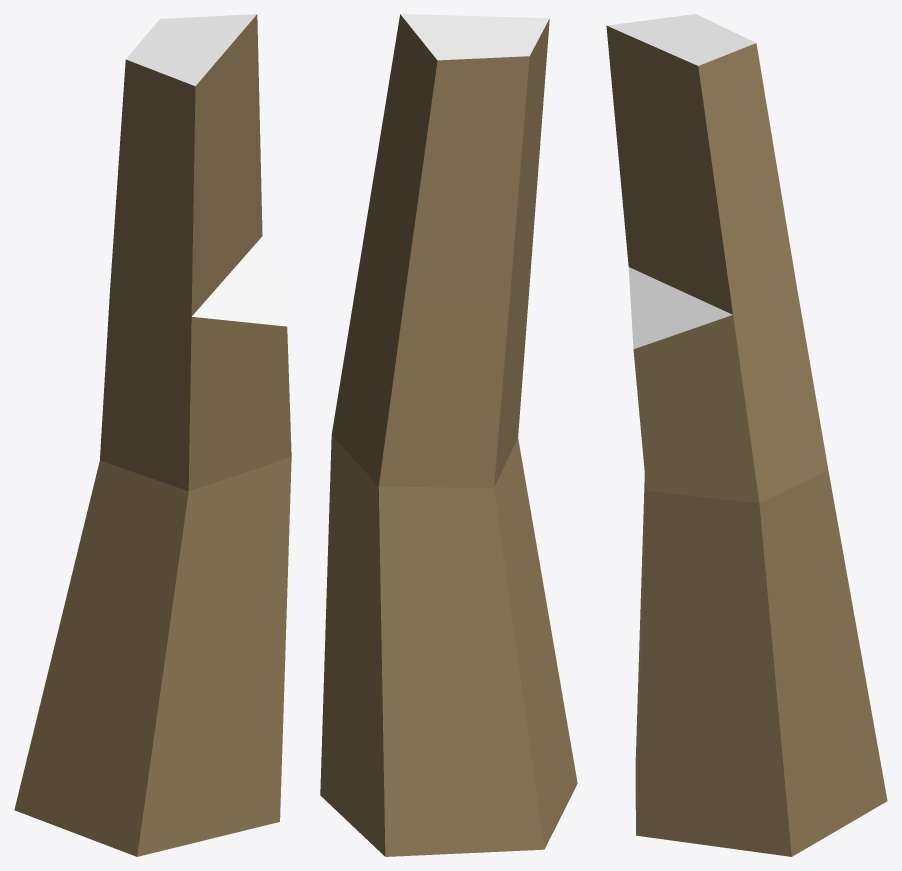
The model's file is Apple_Stump_Snow_01_LOD.fbx.
The picture shows the model from 3 angles, left to right: view 1: azimuth 30°, elevation 25°; view 2: azimuth 150°, elevation 25°; view 3: azimuth 270°, elevation 25°; orthographic projection. The views are drawn at different scales.
Parts seen in each view (by area): view 1: Apple_Stump_Snow_01_LOD0; view 2: Apple_Stump_Snow_01_LOD0; view 3: Apple_Stump_Snow_01_LOD0.
Part boxes in pixels (x1,y1,x2,y2): Apple_Stump_Snow_01_LOD0: (14,14,291,856); Apple_Stump_Snow_01_LOD0: (320,14,577,856); Apple_Stump_Snow_01_LOD0: (606,14,887,856).
Size of what is drawn, in the model's own units: 44.49 by 141 by 46.39.
